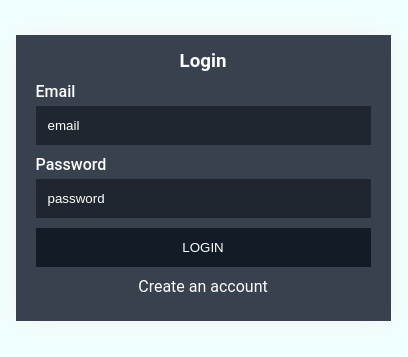
Testing the Login page.. › Invalid login › Should show the error messages
Type "qw" into the field with id "form-control-email" at [204, 126], box [36,106,371,145]
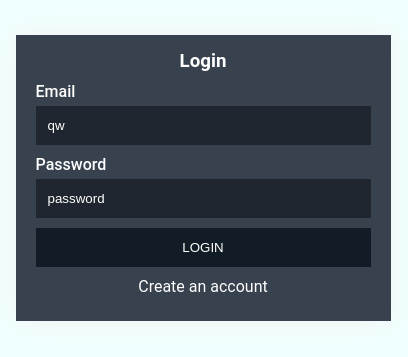
Type "qw" into the password field with id "form-control-password" at [204, 199], box [36,179,371,218]
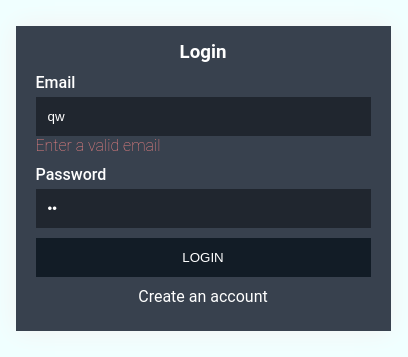
Leave the password field with id "form-control-password", box [36,189,371,228]
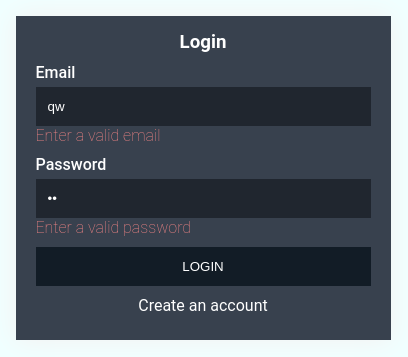
Now the text "Enter a valid email" is shown, box [36,126,160,145]
Now the text "Enter a valid password" is shown, box [36,218,191,237]
